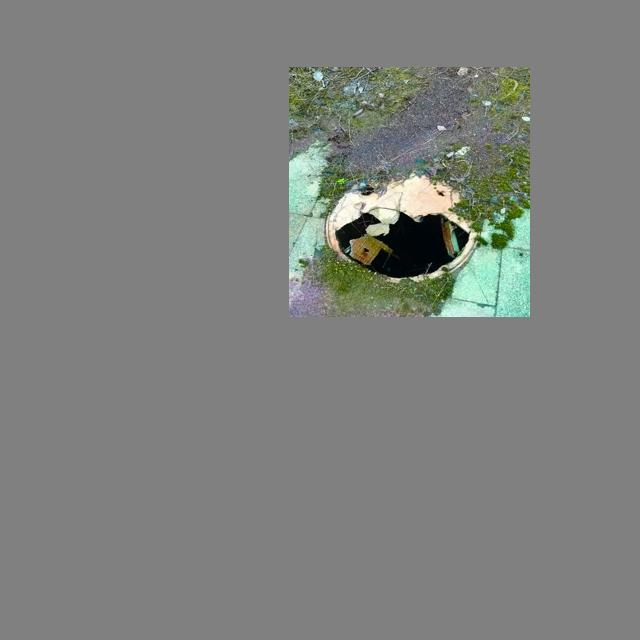broke: (309, 169, 494, 287)
